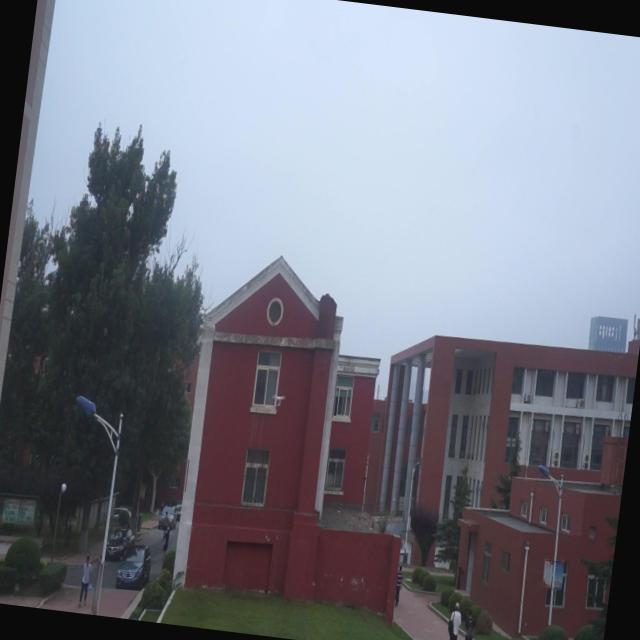drone: (270, 386, 286, 411)
